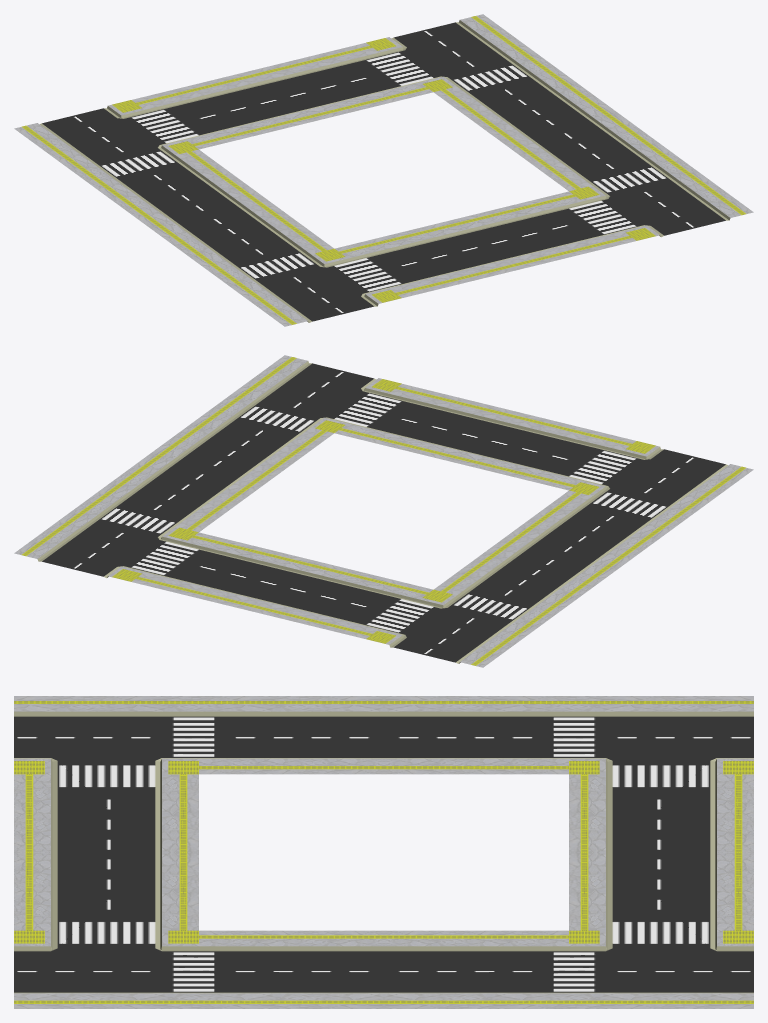
The model's file is RuaQuadrada.fbx.
The picture shows the model from 3 angles, top to bottom: view 1: azimuth 30°, elevation 25°; view 2: azimuth 150°, elevation 25°; view 3: azimuth 270°, elevation 25°; orthographic projection. The views are drawn at different scales.
Visible parts, largest first — view 1: Rua quadradosa; view 2: Rua quadradosa; view 3: Rua quadradosa.
Part boxes in pixels (x1=…): Rua quadradosa: x1=14, y1=14, x2=753, y2=326; Rua quadradosa: x1=14, y1=355, x2=753, y2=667; Rua quadradosa: x1=14, y1=696, x2=753, y2=1008.
Bounding box in the file's own units: 4800 × 4800 × 23.37.
Materials: 1 (1 with a texture image).
